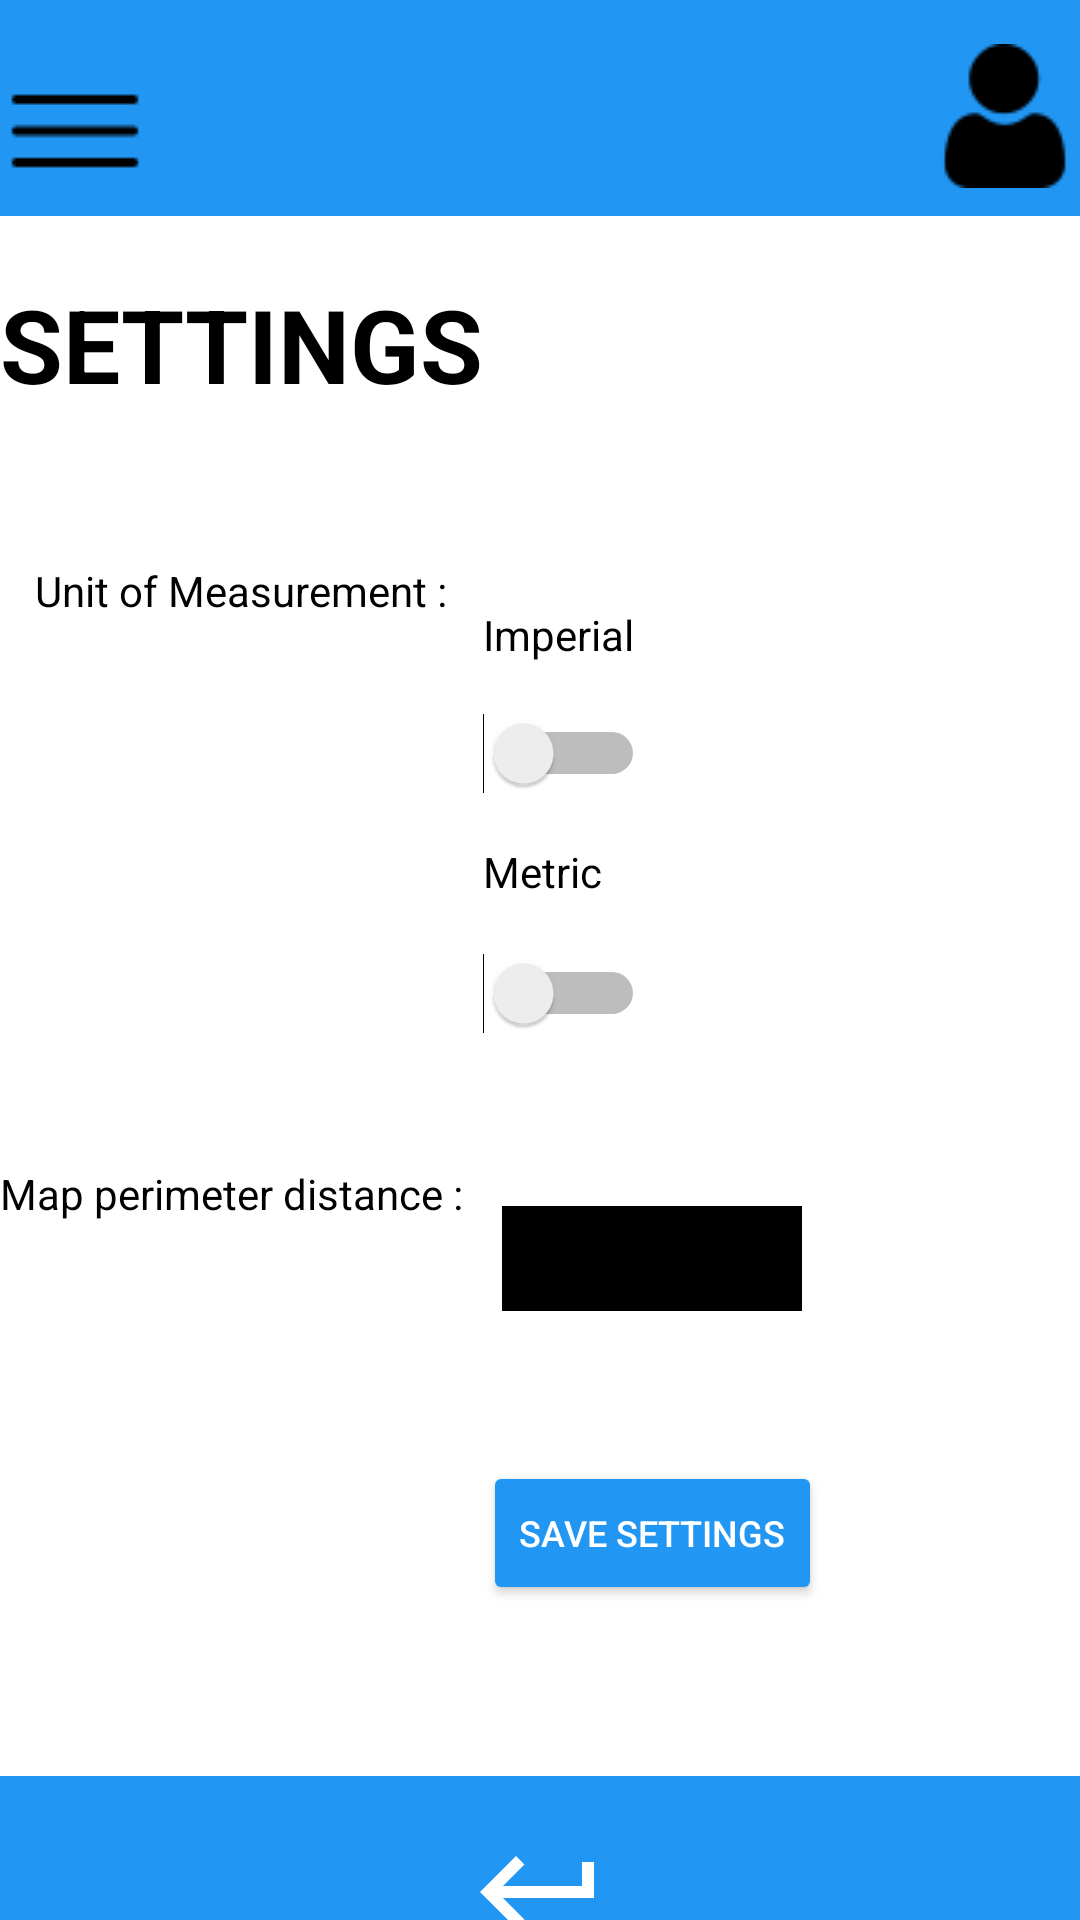

Locate icon controls on the screen. Image size 1080px x 1920px, boxes as (x1, y1, x2, y2).
burgernav bar: (11, 94, 139, 168)
profile: (944, 44, 1066, 188)
